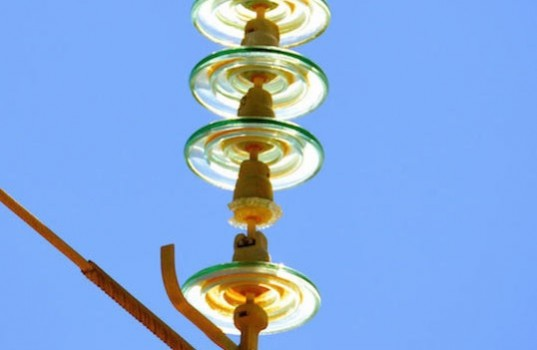gap: (181, 116, 326, 332)
isolator: (179, 1, 331, 334)
